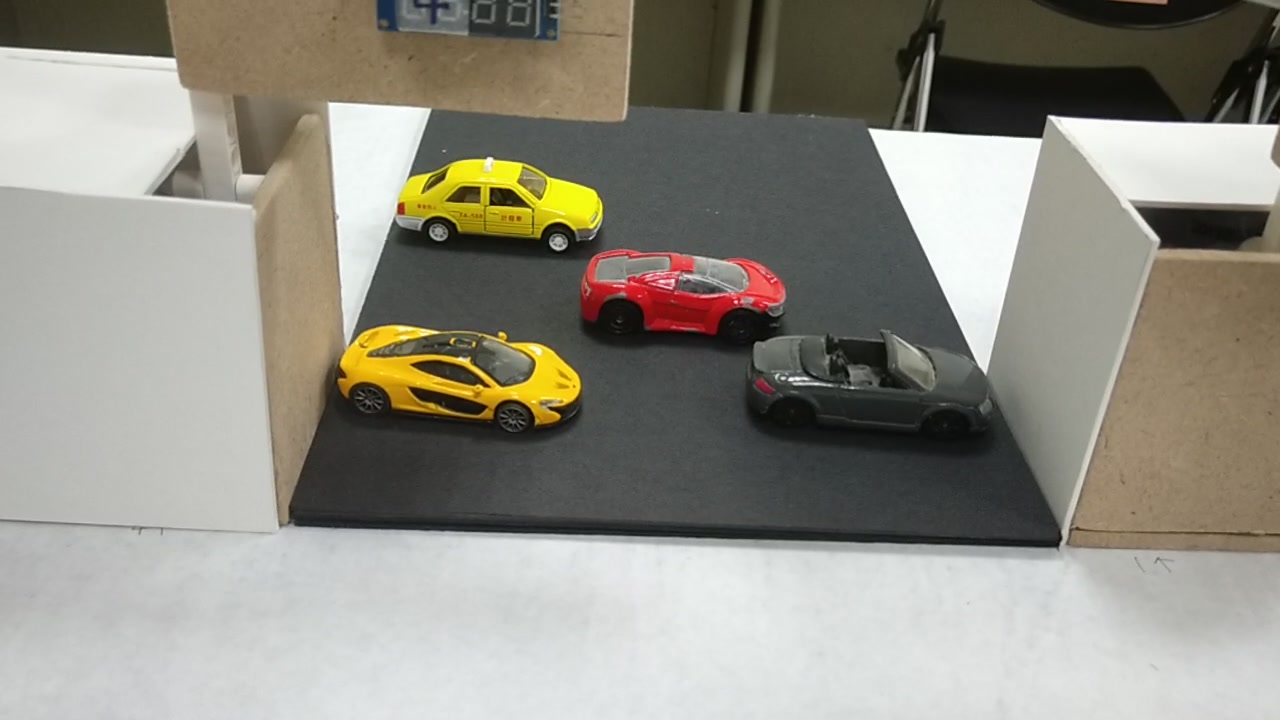car: (323, 323, 584, 433), (751, 340, 993, 441), (578, 244, 787, 337), (398, 162, 603, 245)
